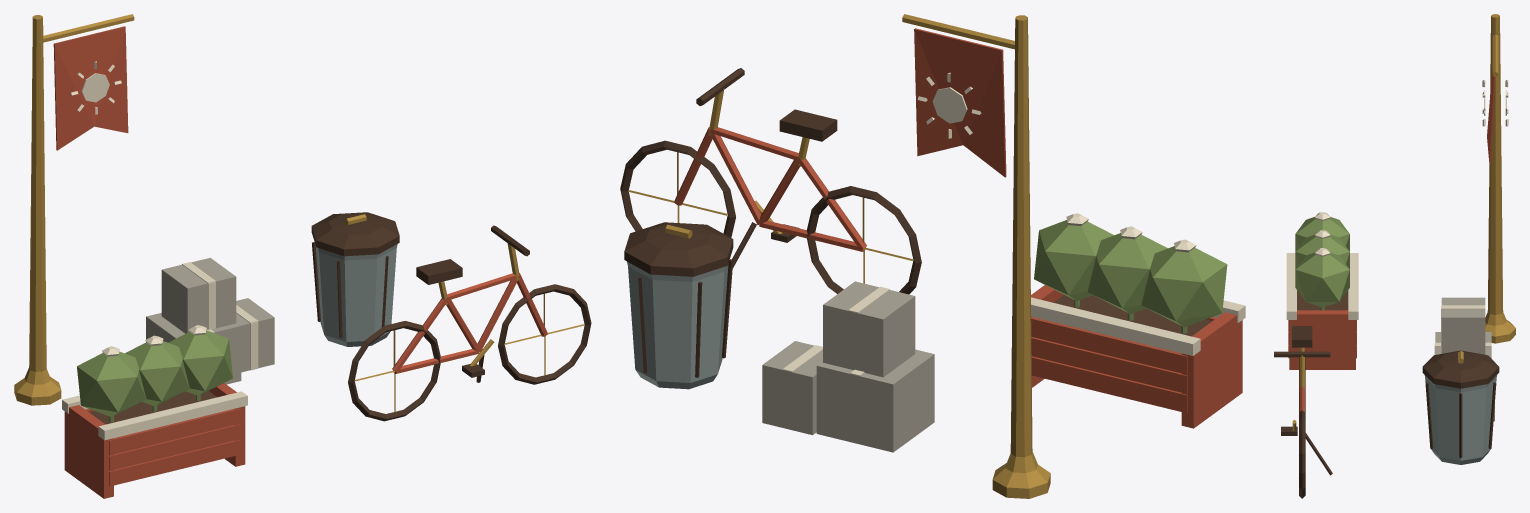
Rendered from SM_StreetProps_L1.glb.
3 views of the same model, side by side, from view 1: azimuth 30°, elevation 25°; view 2: azimuth 150°, elevation 25°; view 3: azimuth 270°, elevation 25° (orthographic). The views are drawn at different scales.
Visible parts, largest first — view 1: SM_FlowerBox, SM_LampBanner, SM_Bin, SM_Bicycle, SM_CartonStack; view 2: SM_FlowerBox, SM_LampBanner, SM_CartonStack, SM_Bin, SM_Bicycle; view 3: SM_FlowerBox, SM_Bin, SM_LampBanner, SM_CartonStack, SM_Bicycle.
Part boxes in pixels (left/top/right/bottom): SM_FlowerBox: left=62, top=325, right=247, bottom=498; SM_LampBanner: left=14, top=14, right=134, bottom=405; SM_Bin: left=311, top=212, right=399, bottom=346; SM_Bicycle: left=348, top=225, right=591, bottom=421; SM_CartonStack: left=146, top=257, right=274, bottom=384; SM_FlowerBox: left=1031, top=213, right=1245, bottom=428; SM_LampBanner: left=902, top=14, right=1050, bottom=498; SM_CartonStack: left=762, top=281, right=934, bottom=452; SM_Bin: left=624, top=222, right=733, bottom=389; SM_Bicycle: left=620, top=68, right=921, bottom=294; SM_FlowerBox: left=1286, top=212, right=1358, bottom=369; SM_Bin: left=1422, top=350, right=1499, bottom=464; SM_LampBanner: left=1482, top=14, right=1515, bottom=343; SM_CartonStack: left=1434, top=297, right=1494, bottom=421; SM_Bicycle: left=1274, top=326, right=1332, bottom=498.
Size of the model in its own units: 3.79 by 2.75 by 1.89.
